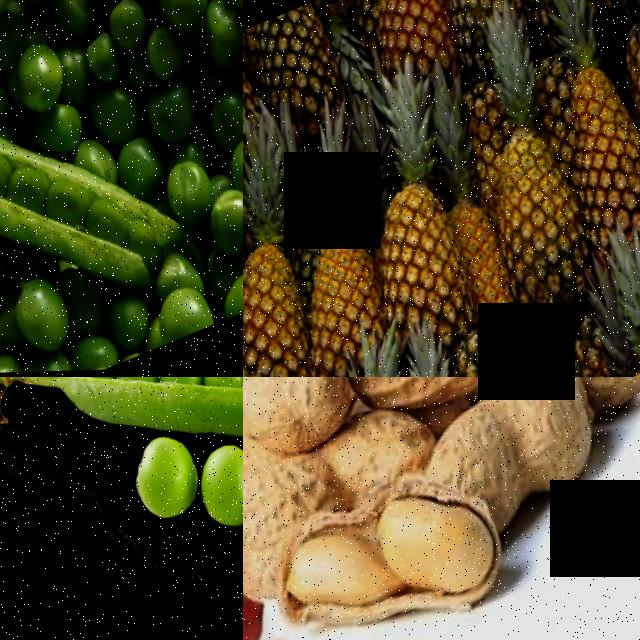peanuts: (243, 396, 452, 559), (430, 377, 623, 519), (369, 470, 523, 620), (279, 513, 414, 631), (311, 377, 557, 428), (243, 377, 368, 468)
peas: (55, 0, 243, 327), (0, 0, 243, 223), (109, 377, 243, 631)
pineapple: (465, 118, 621, 320), (530, 48, 640, 272), (356, 157, 489, 315), (432, 169, 548, 341), (285, 208, 416, 348), (243, 0, 366, 147), (243, 201, 338, 370), (350, 0, 465, 77), (243, 35, 290, 192), (426, 0, 526, 29)
